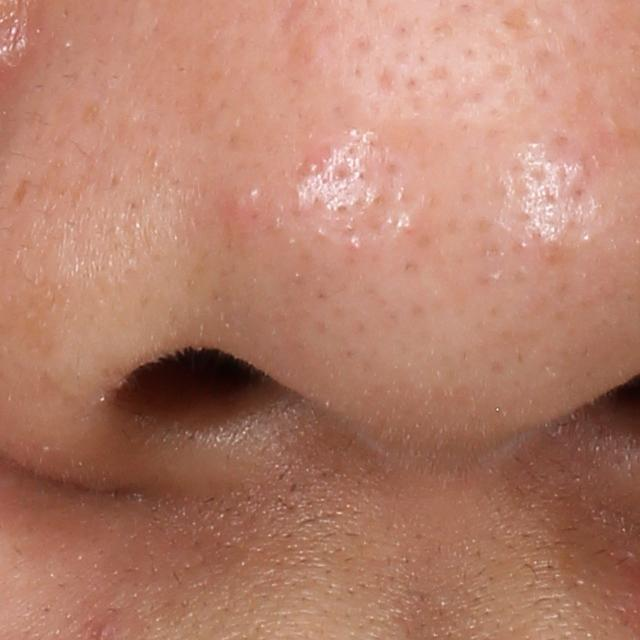atrophic_scar: (499, 3, 539, 42), (374, 65, 399, 99)
